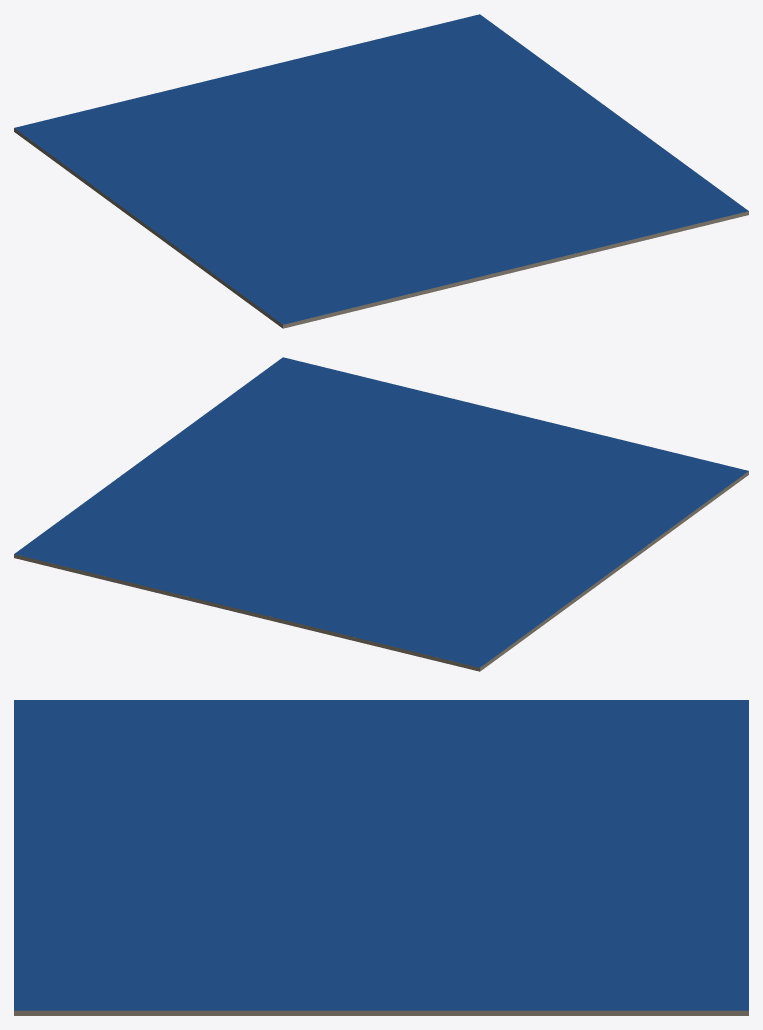
File: parca_+7_+3-uzak.glb
3 renders of one model, top to bottom at view 1: azimuth 30°, elevation 25°; view 2: azimuth 150°, elevation 25°; view 3: azimuth 270°, elevation 25°, orthographic. The views are drawn at different scales.
Parts seen in each view (by area): view 1: parca_+7_+3_arazi_uzak; view 2: parca_+7_+3_arazi_uzak; view 3: parca_+7_+3_arazi_uzak.
Part boxes in pixels (box(x1,y1,x2,y2)): parca_+7_+3_arazi_uzak: box(14, 14, 748, 328); parca_+7_+3_arazi_uzak: box(14, 357, 748, 671); parca_+7_+3_arazi_uzak: box(14, 700, 748, 1015).
Size of the model in its own units: 1000 by 8 by 1000.
